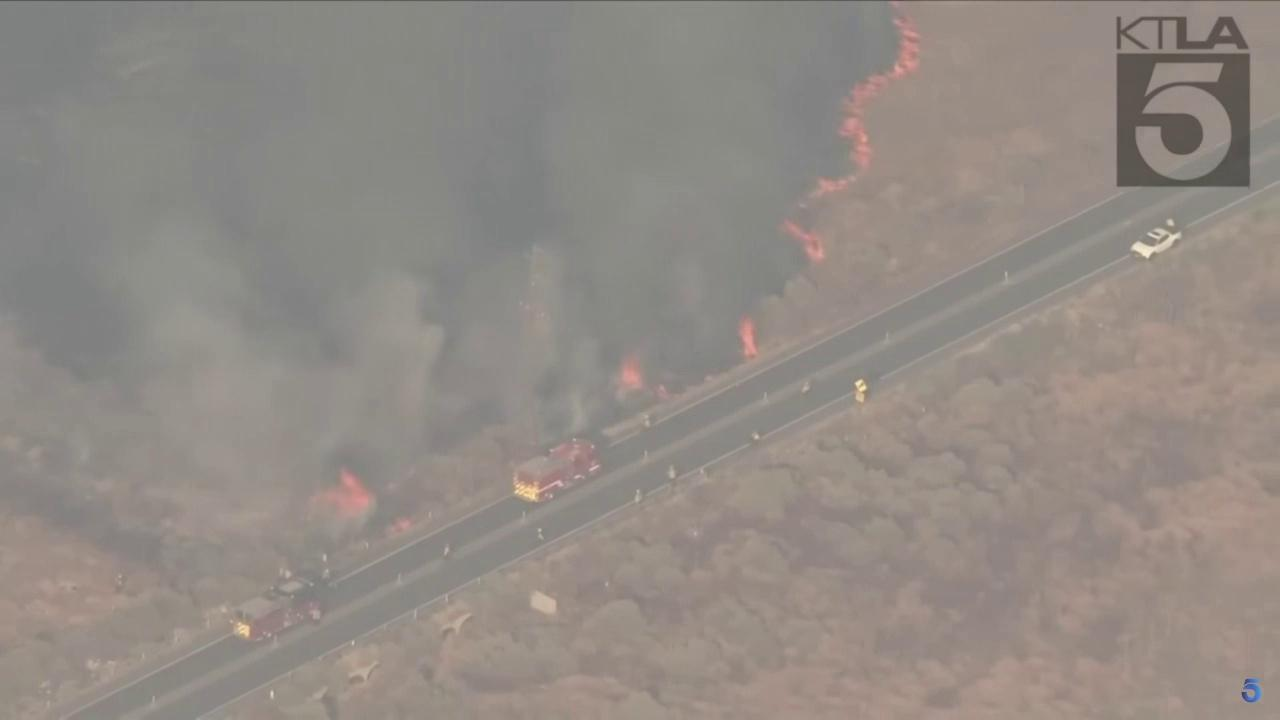fire: (807, 0, 923, 199), (304, 467, 374, 520), (780, 218, 825, 261), (612, 354, 643, 392), (736, 314, 760, 358), (383, 517, 412, 535)
smoke: (0, 0, 900, 570)
